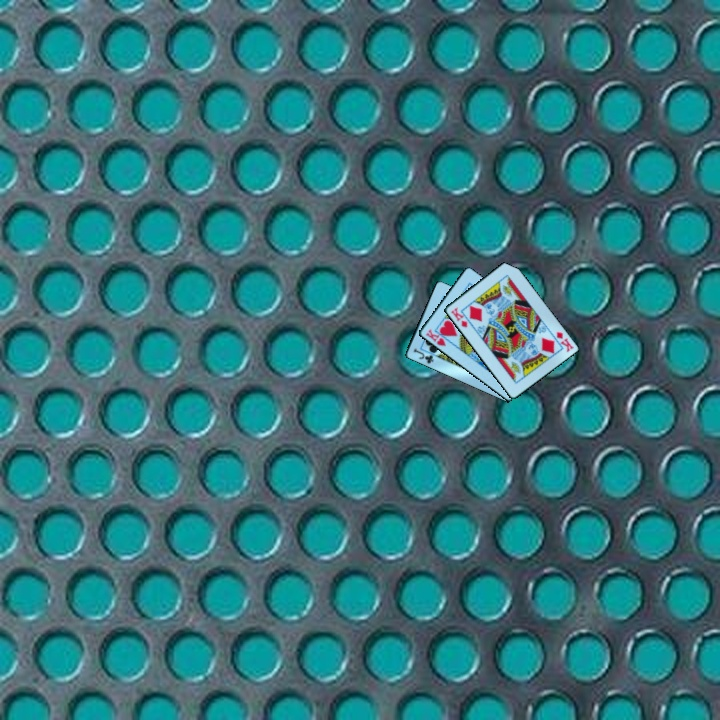Jc: (410, 345, 436, 366)
Kd: (553, 328, 576, 355), (447, 304, 470, 330)
Kh: (422, 325, 448, 349)
